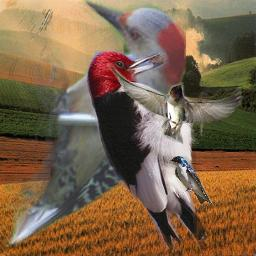Swallow: (107, 63, 244, 145), (169, 156, 213, 205)
Woodpecker: (4, 0, 186, 251), (86, 50, 210, 250)
